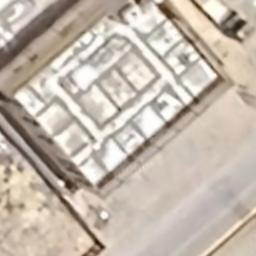truck: (184, 0, 256, 46)
